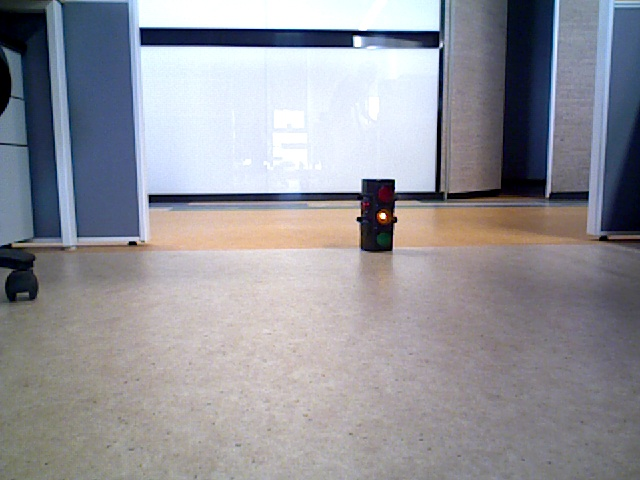yellow: (361, 182, 390, 250)
